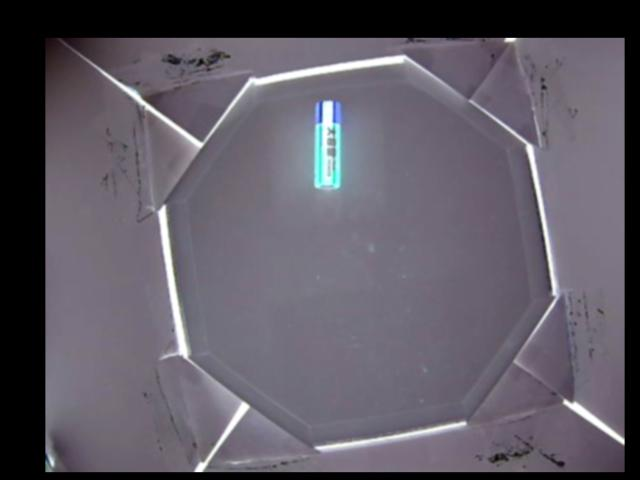Battery: (314, 99, 339, 189)
